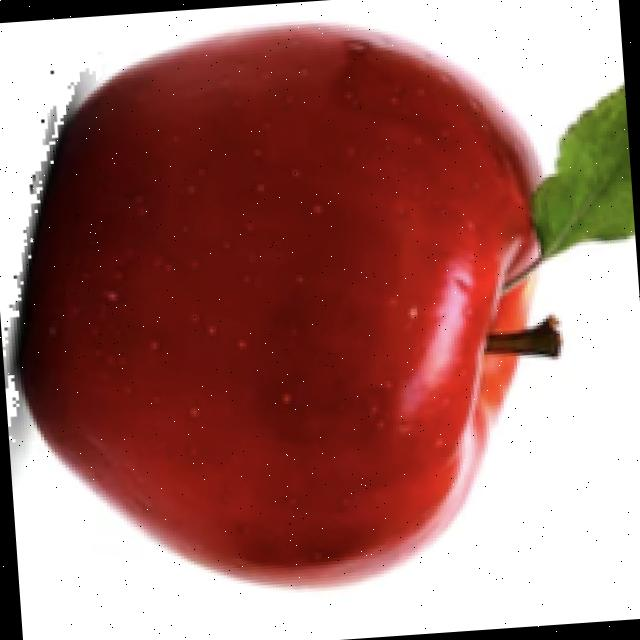apple: (3, 18, 635, 595)
